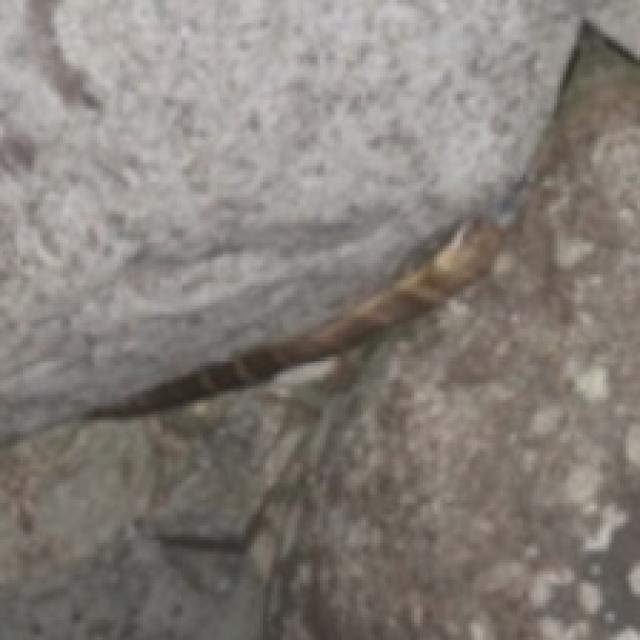king cobra: (0, 0, 637, 437), (86, 217, 506, 417)
